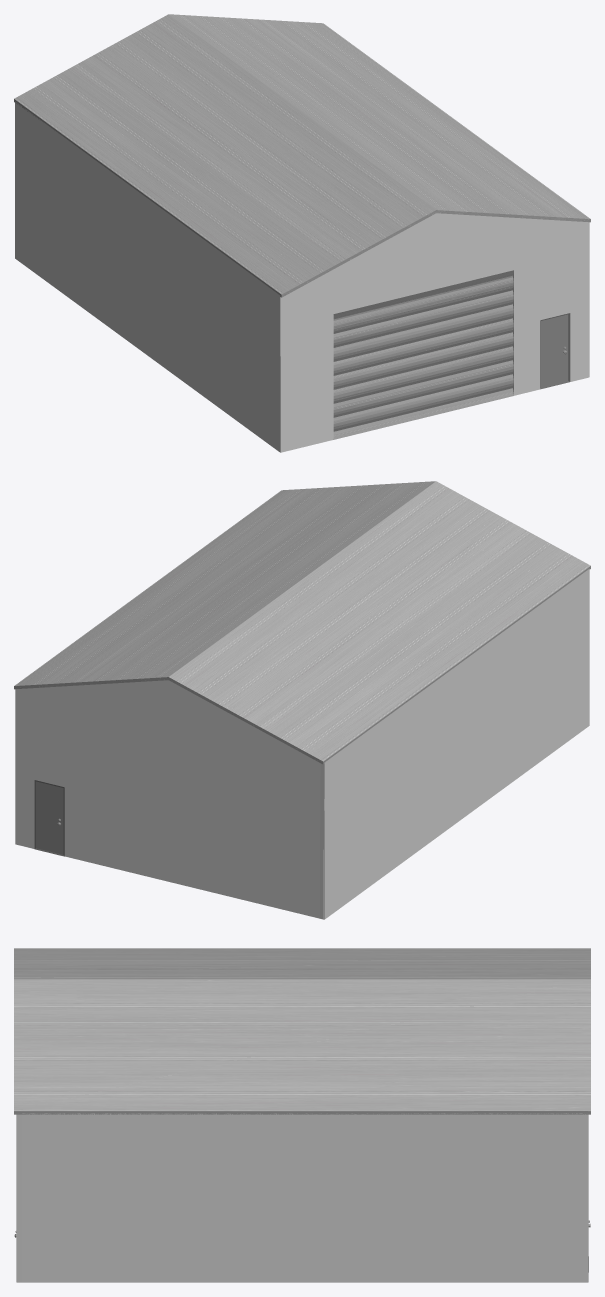
The picture shows the model from 3 angles, top to bottom: view 1: azimuth 30°, elevation 25°; view 2: azimuth 150°, elevation 25°; view 3: azimuth 270°, elevation 25°; orthographic projection. The views are drawn at different scales.
Visible parts, largest first — view 1: Roof, Wall_L, Wall_F, Door Bit, Front; view 2: Roof, Wall_B, Wall_L, Back; view 3: Wall_R, Roof.
Part boxes in pixels (box(x1,y1,x2,y2)): Roof: box(14, 14, 590, 297); Wall_L: box(15, 102, 280, 452); Wall_F: box(280, 213, 589, 452); Door Bit: box(333, 270, 513, 439); Front: box(540, 313, 569, 389); Roof: box(14, 481, 590, 764); Wall_B: box(15, 680, 324, 919); Wall_L: box(324, 569, 589, 919); Back: box(34, 780, 64, 856); Wall_R: box(16, 1113, 588, 1282); Roof: box(14, 948, 590, 1114).
Size of the model in its own units: 10.3 by 15.43 by 6.55.
